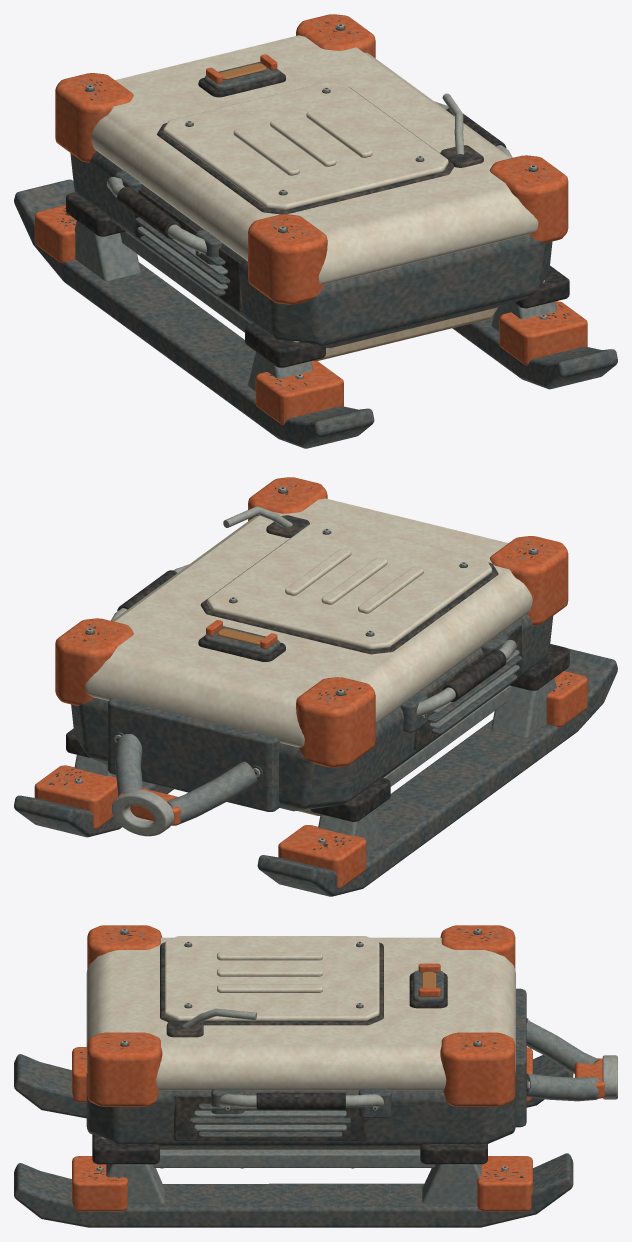
File: Radar_Sled.glb
3 renders of one model, top to bottom at view 1: azimuth 30°, elevation 25°; view 2: azimuth 150°, elevation 25°; view 3: azimuth 270°, elevation 25°, orthographic. The views are drawn at different scales.
Parts seen in each view (by area): view 1: RadarSled_rover_white, RadarSled_orange, RadarSled_dark_alloy, Skids_dark_alloy, RadarSled_alloy, RadarSled_black_rubber, RadarSled_graphite, RadarSled_satin_steel, Antenna_warm_panel; view 2: RadarSled_rover_white, RadarSled_orange, RadarSled_dark_alloy, Skids_dark_alloy, RadarSled_alloy, RadarSled_black_rubber, RadarSled_graphite, RadarSled_satin_steel; view 3: RadarSled_rover_white, Skids_dark_alloy, RadarSled_orange, RadarSled_dark_alloy, RadarSled_alloy, RadarSled_graphite, RadarSled_black_rubber, RadarSled_satin_steel, Antenna_warm_panel.
Boxes of the visible parts, x1,y1,x2,y2 form: RadarSled_rover_white: [91, 35, 538, 284]; RadarSled_orange: [34, 14, 587, 424]; RadarSled_dark_alloy: [70, 26, 552, 379]; Skids_dark_alloy: [14, 179, 617, 448]; RadarSled_alloy: [46, 19, 572, 391]; RadarSled_black_rubber: [66, 71, 569, 367]; RadarSled_graphite: [57, 20, 570, 389]; RadarSled_satin_steel: [86, 24, 546, 378]; Antenna_warm_panel: [312, 307, 498, 361]; RadarSled_rover_white: [85, 498, 532, 747]; RadarSled_orange: [34, 477, 587, 888]; RadarSled_dark_alloy: [71, 489, 553, 843]; Skids_dark_alloy: [14, 648, 617, 896]; RadarSled_alloy: [47, 482, 574, 854]; RadarSled_black_rubber: [66, 570, 569, 821]; RadarSled_graphite: [48, 485, 571, 849]; RadarSled_satin_steel: [75, 487, 536, 842]; RadarSled_rover_white: [86, 936, 515, 1090]; Skids_dark_alloy: [14, 1054, 573, 1227]; RadarSled_orange: [72, 925, 605, 1211]; RadarSled_dark_alloy: [86, 930, 528, 1170]; RadarSled_alloy: [80, 928, 599, 1203]; RadarSled_graphite: [80, 928, 530, 1180]; RadarSled_black_rubber: [92, 973, 487, 1164]; RadarSled_satin_steel: [97, 928, 617, 1170]; Antenna_warm_panel: [160, 1149, 419, 1150].
Bounding box in the file's own units: 0.704 × 0.4255 × 1.18.
Materials: 9 (8 with a texture image).
